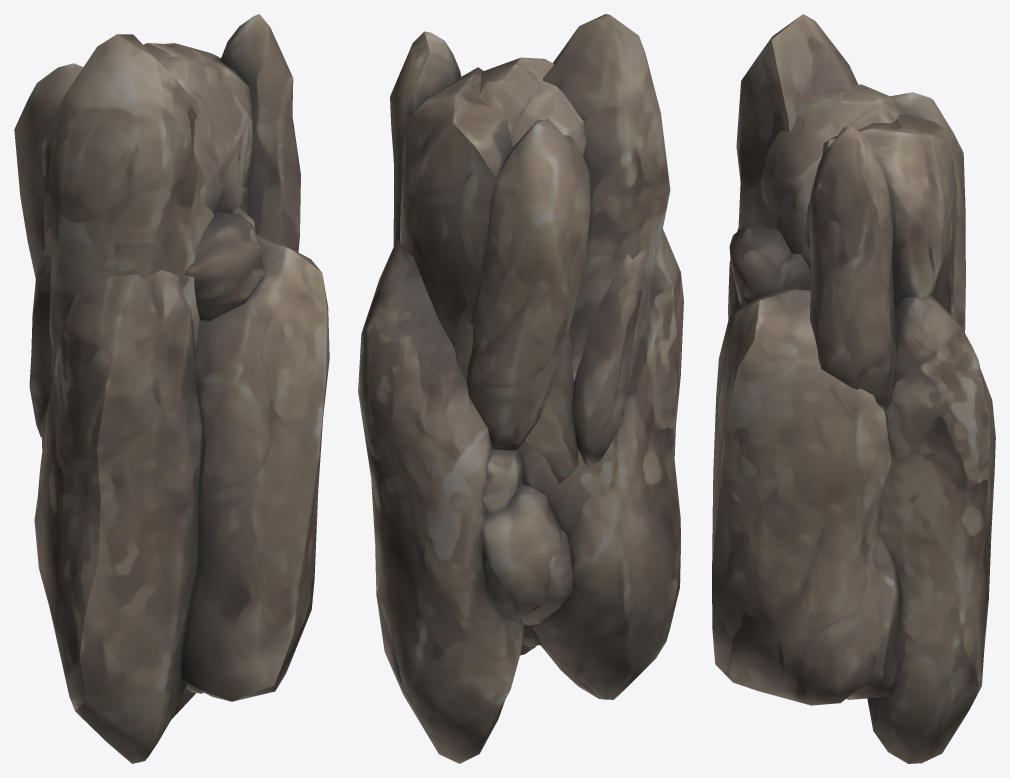
The model's file is HP_RockForms.fbx.
3 renders of one model, left to right at view 1: azimuth 30°, elevation 25°; view 2: azimuth 150°, elevation 25°; view 3: azimuth 270°, elevation 25°, orthographic. The views are drawn at different scales.
Visible parts, largest first — view 1: RockForm02, RockForm01; view 2: RockForm01, RockForm02; view 3: RockForm01, RockForm02.
Boxes of the visible parts, x1,y1,x2,y2 form: RockForm02: [29, 43, 329, 763]; RockForm01: [14, 14, 300, 719]; RockForm01: [358, 14, 670, 763]; RockForm02: [454, 57, 683, 699]; RockForm01: [736, 14, 995, 763]; RockForm02: [712, 84, 956, 705].
Size of what is drawn, in the model's own units: 326 by 883 by 321.
